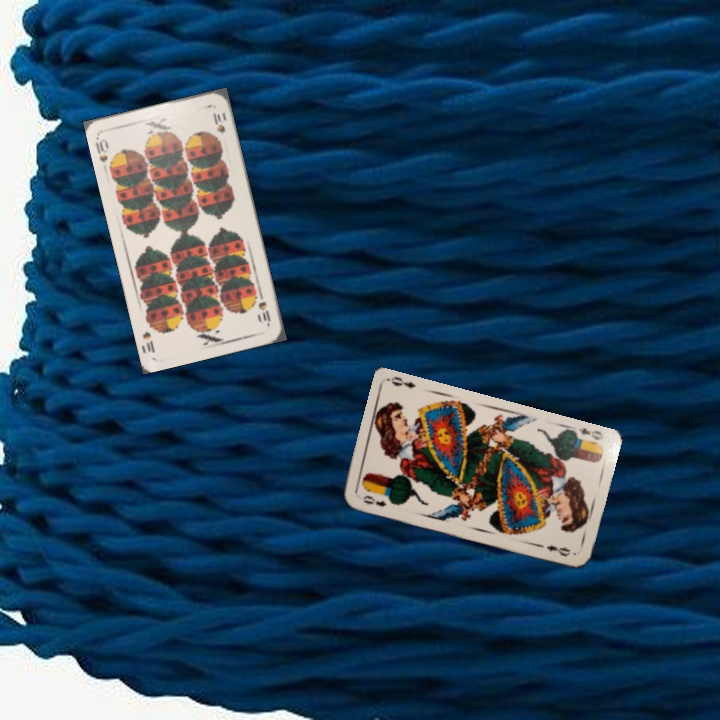EO: (575, 423, 606, 443), (359, 491, 389, 509)
S10: (254, 288, 273, 328), (91, 135, 111, 165)
